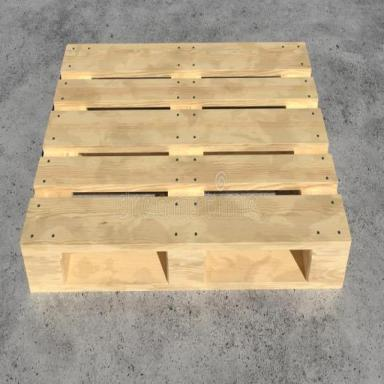pallet: (19, 42, 352, 293)
